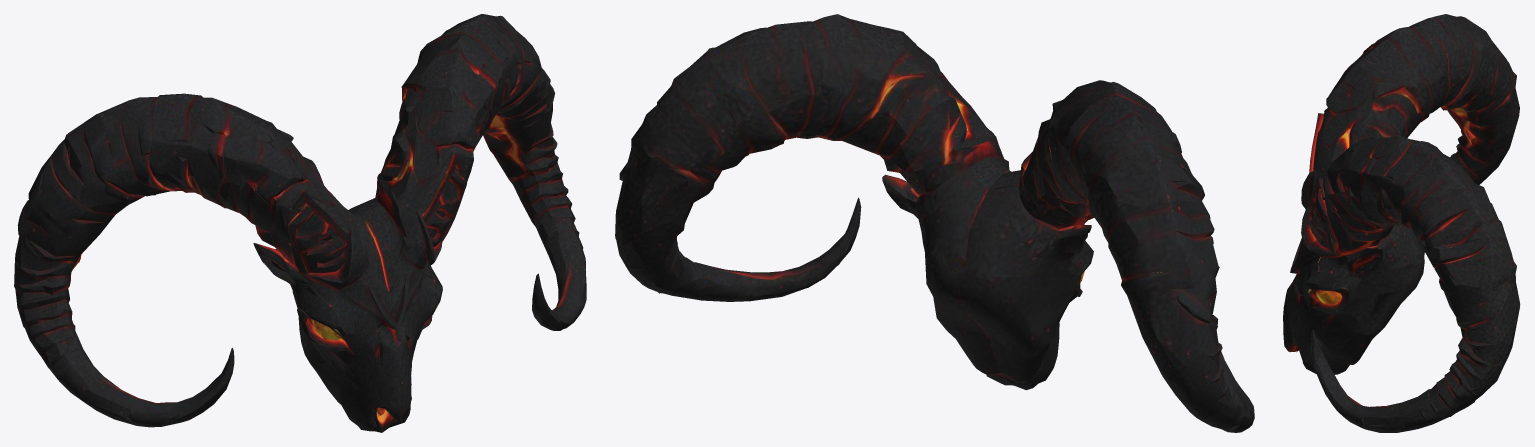
The model's file is horns.glb.
3 renders of one model, left to right at view 1: azimuth 30°, elevation 25°; view 2: azimuth 150°, elevation 25°; view 3: azimuth 270°, elevation 25°, orthographic. The views are drawn at different scales.
Parts seen in each view (by area): view 1: Mesh_0; view 2: Mesh_0; view 3: Mesh_0.
Boxes of the visible parts, bbox=[...] form: Mesh_0: bbox=[14, 14, 586, 432]; Mesh_0: bbox=[615, 14, 1254, 432]; Mesh_0: bbox=[1283, 14, 1520, 432].
Size of the model in its own units: 1.5 by 0.8736 by 0.6487.
1 material, 1 textured.
